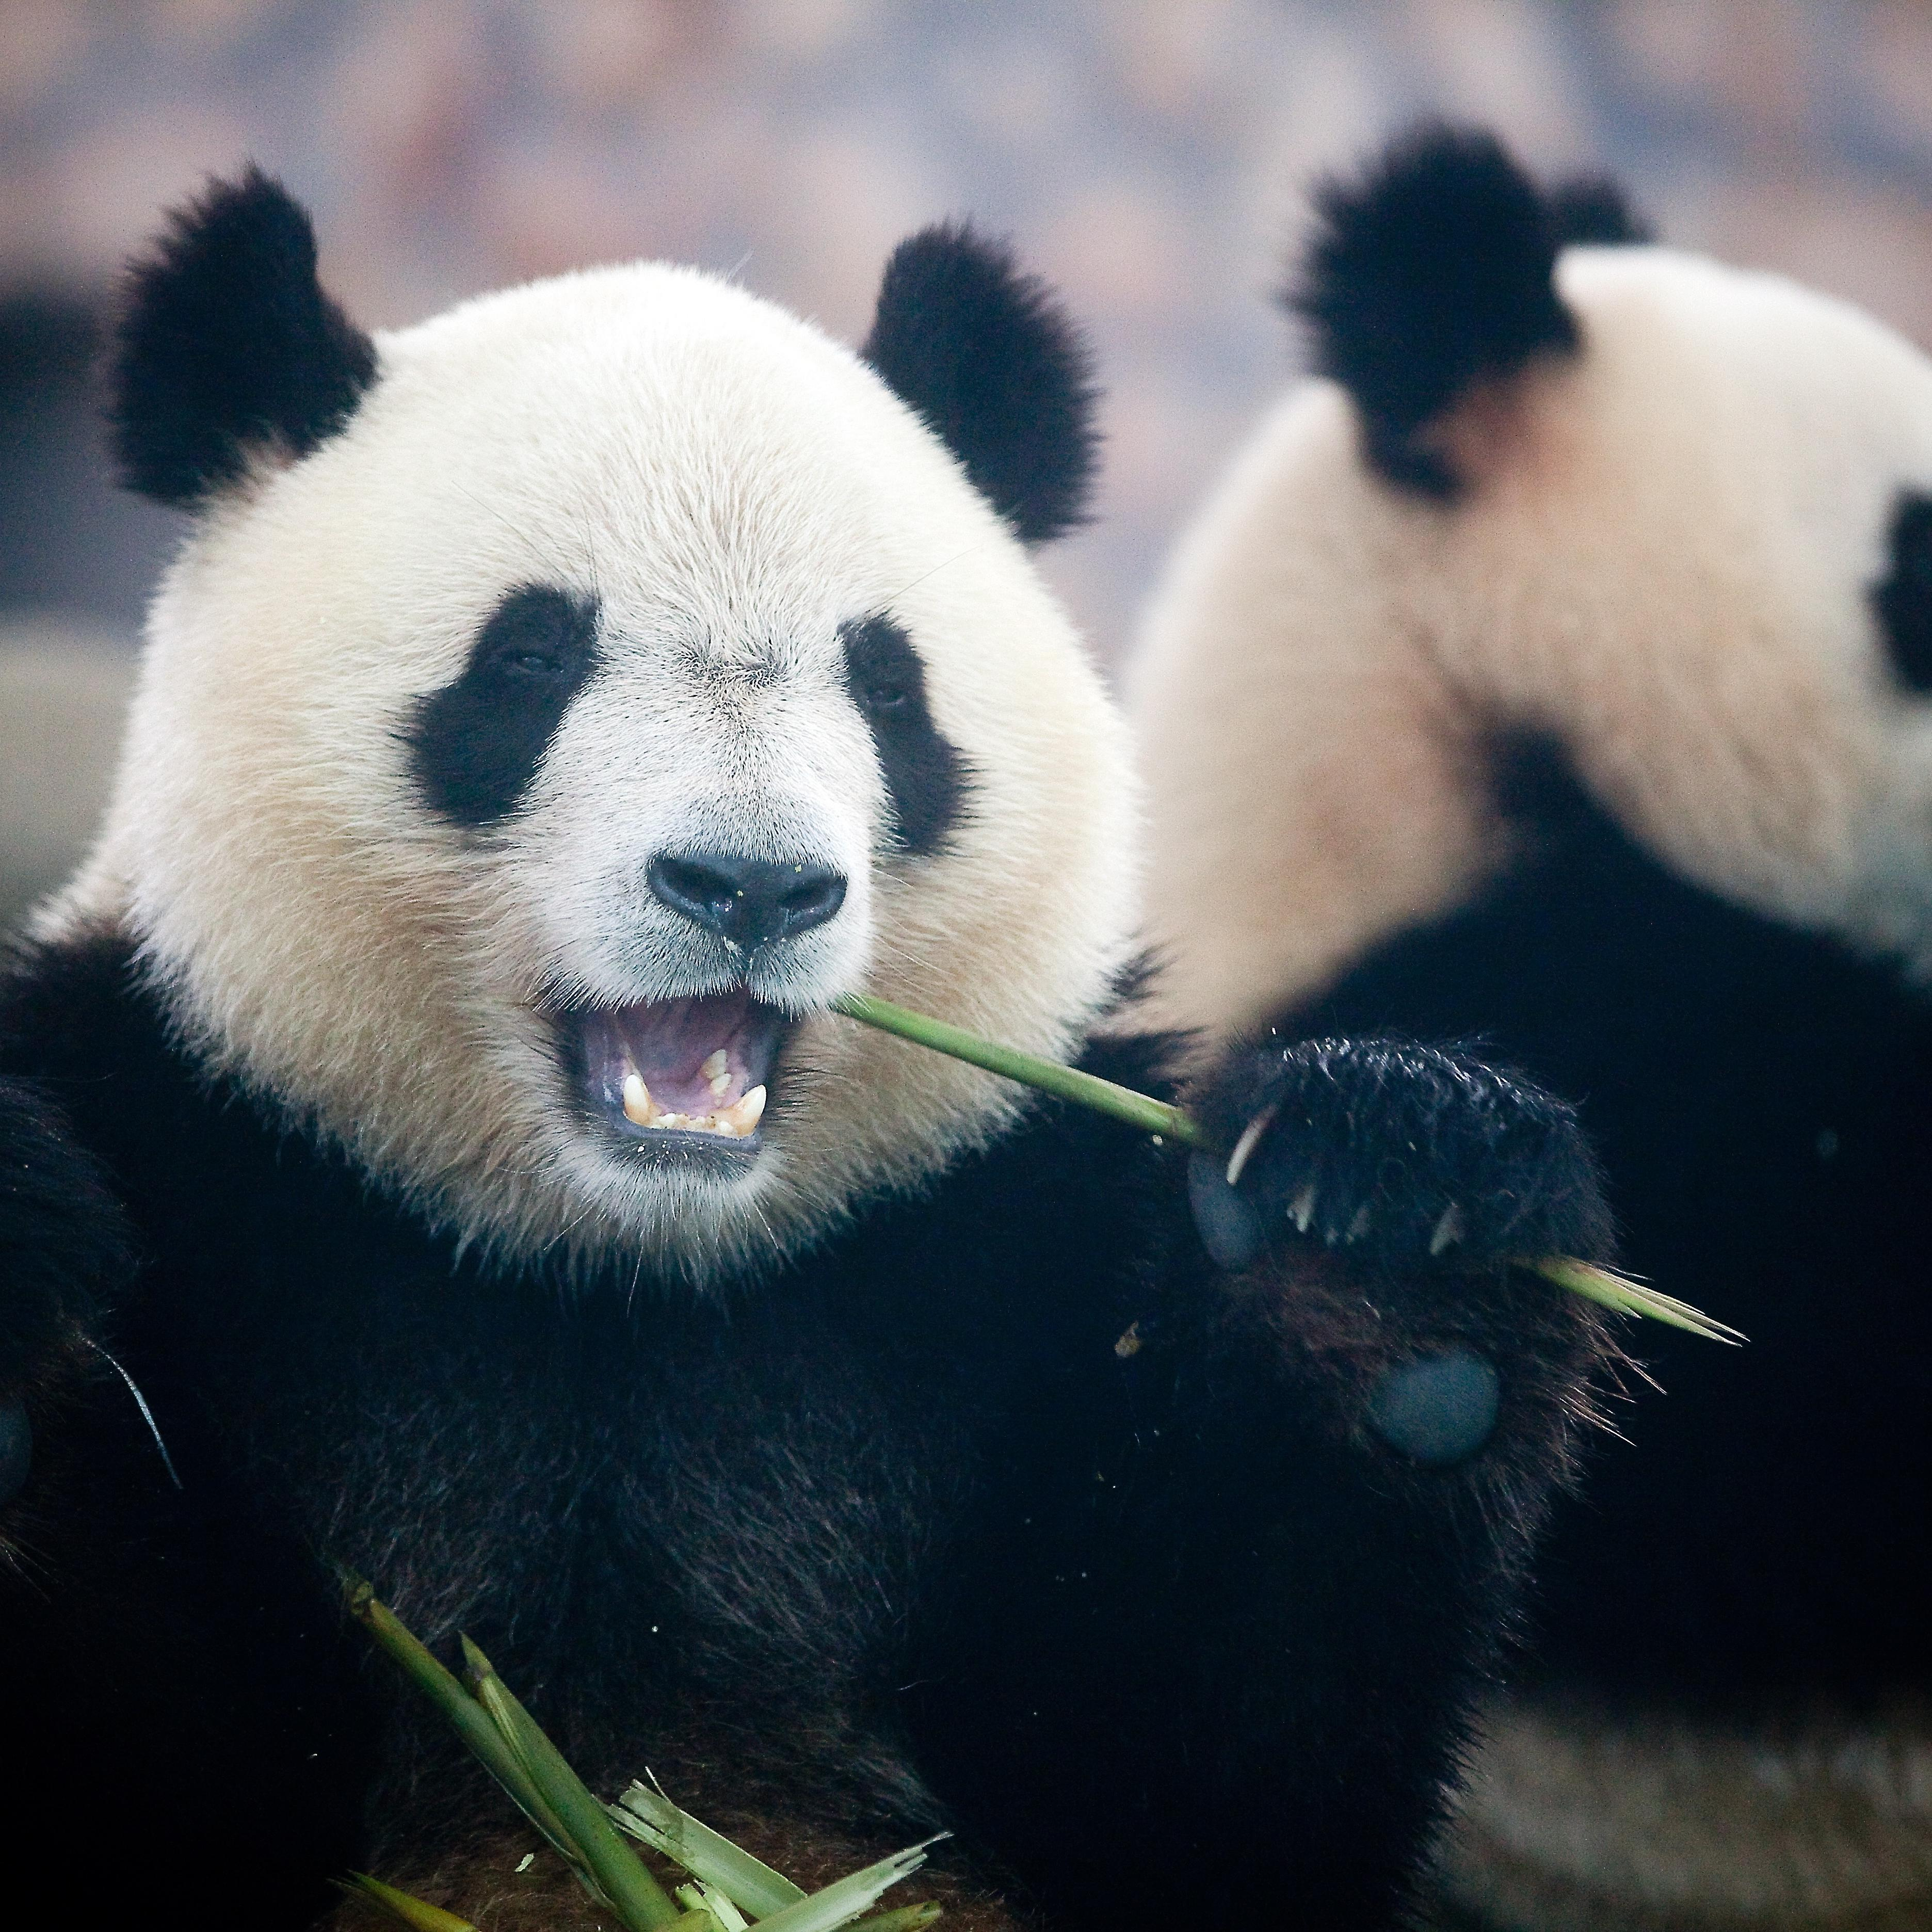panda: (90, 149, 1274, 1835), (1164, 90, 1932, 1773)
